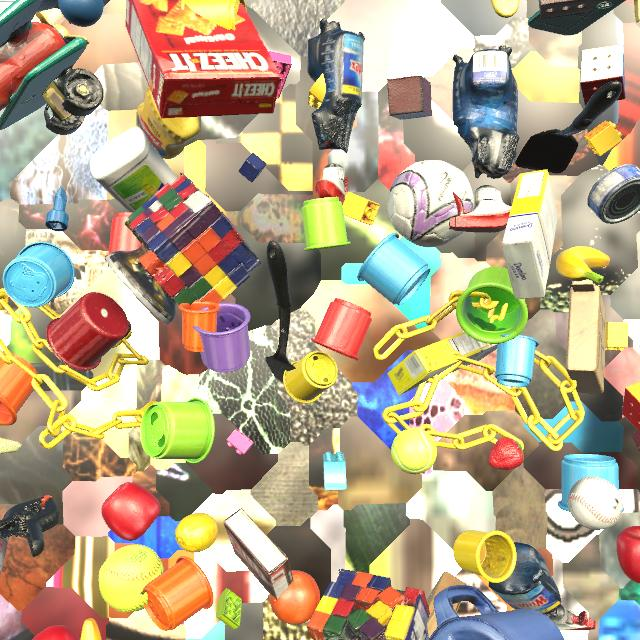ycb_003_cracker_box: (126, 0, 281, 119)
ycb_004_sugar_box: (502, 169, 558, 299), (387, 332, 498, 395)
ycb_005_tomato_soup_can: (0, 537, 9, 577)
ycb_006_mustard_bottle: (136, 86, 200, 159)
ycb_007_tuna_fish_can: (587, 164, 640, 224)
ycb_008_pudding_box: (223, 508, 294, 600)
ycb_011_banana: (556, 246, 610, 284), (80, 618, 102, 640)
ycb_012_strawberry: (489, 437, 524, 470)
ycb_013_apple: (101, 482, 161, 541), (616, 526, 640, 584), (32, 625, 80, 640)
ycb_014_lemon: (175, 513, 218, 552)
ycb_017_orange: (269, 570, 320, 625)
